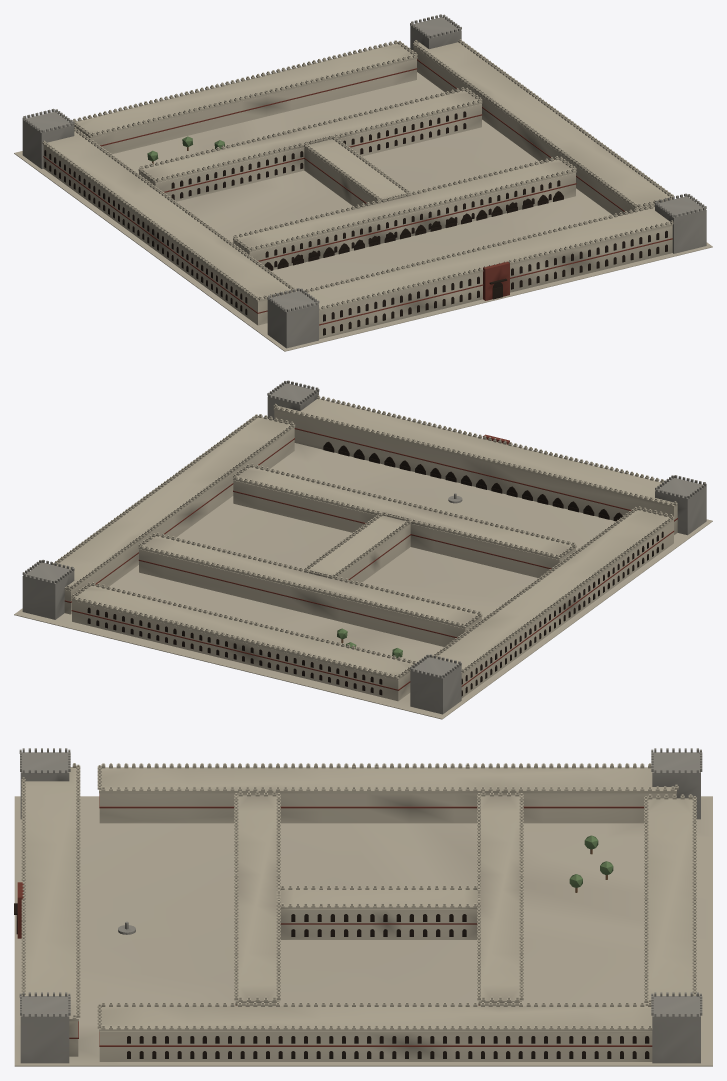
The model's file is viceregal-palace.glb.
3 views of the same model, one above another, from view 1: azimuth 30°, elevation 25°; view 2: azimuth 150°, elevation 25°; view 3: azimuth 270°, elevation 25° (orthographic). The views are drawn at different scales.
Visible parts, largest first — view 1: p1_ranges, p0_ground, p2_towers; view 2: p1_ranges, p0_ground, p2_towers; view 3: p1_ranges, p0_ground, p2_towers.
Boxes of the visible parts, x1,y1,x2,y2 form: p1_ranges: (42, 39, 674, 339); p0_ground: (14, 72, 712, 351); p2_towers: (22, 14, 706, 348); p1_ranges: (53, 395, 677, 701); p0_ground: (14, 443, 712, 719); p2_towers: (22, 380, 706, 714); p1_ranges: (21, 763, 696, 1061); p0_ground: (14, 796, 712, 1066); p2_towers: (14, 748, 702, 1063).
Bounding box in the file's own units: 210 × 18.4 × 230.
